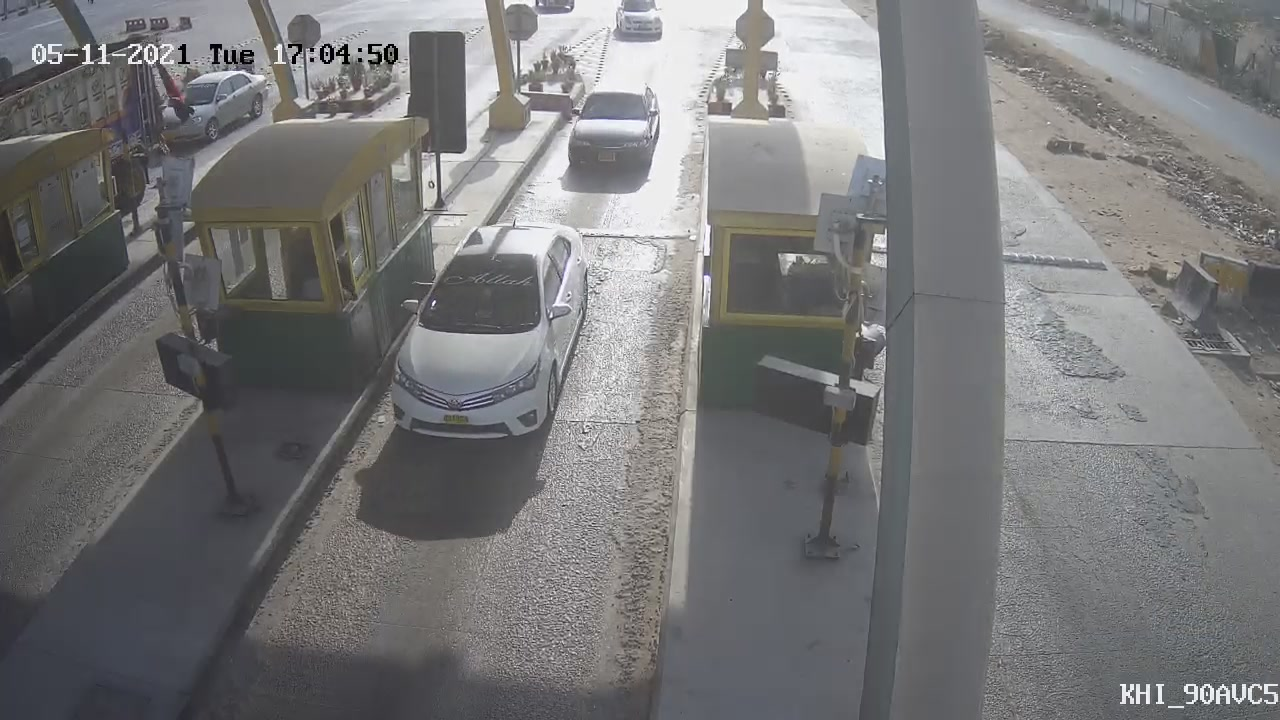F1: (361, 201, 606, 464), (556, 67, 671, 188)
